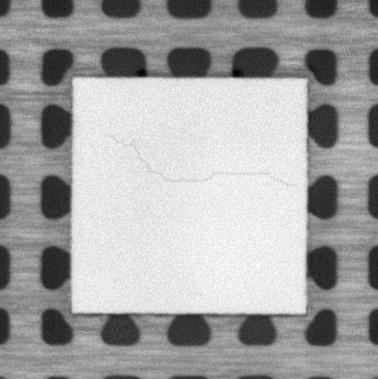DIE_CRACK: (107, 134, 296, 192)
